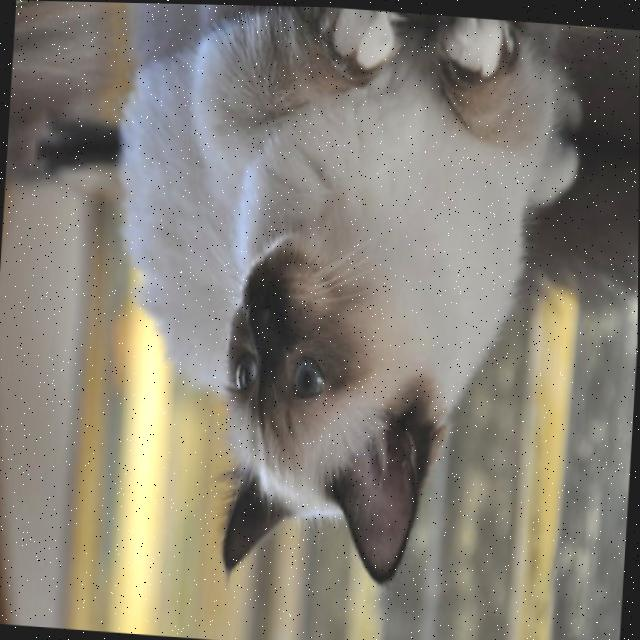Birman: (84, 2, 583, 605)
